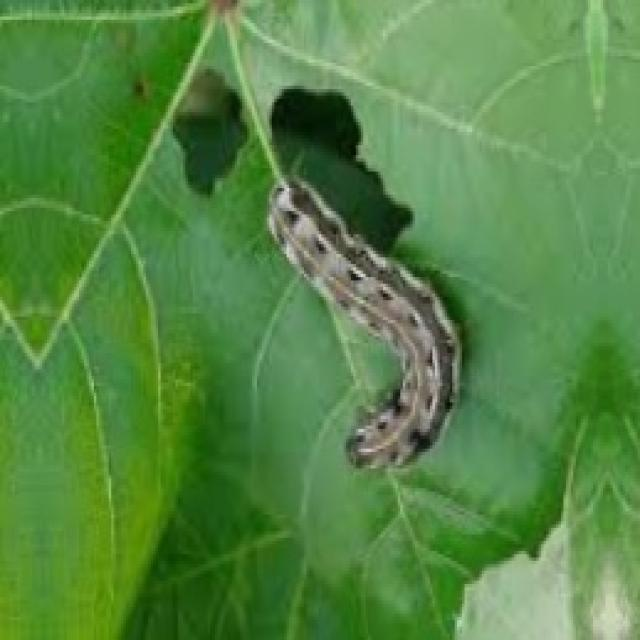armyworm: (264, 172, 462, 472)
